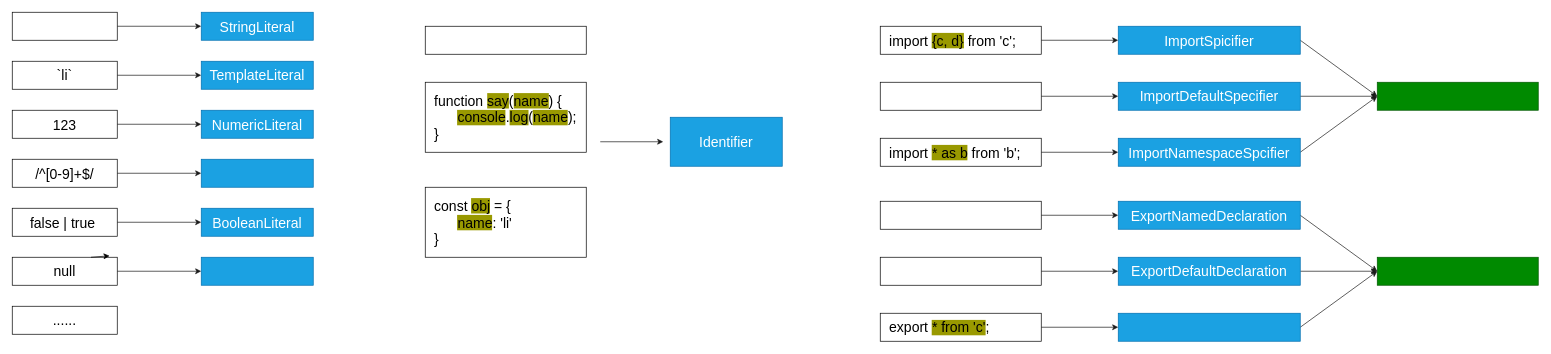
This 1551x354 diagram has some shape labels left out. Here are the shapes that lost their labels. From the top down, the centre of each, then its label:
At (64,26): "'li'".
At (505,40): "const name = 'li';".
At (960,96): "import a from 'a';".
At (1457,96): "ImportDeclaration".
At (257,173): "RegExpLiteral".
At (960,215): "export { b, d } ;".
At (257,271): "NullLiteral".
At (960,271): "export default a ;".
At (1457,271): "ExportsSpecifier".
At (1209,327): "ExportAllDeclaration".
